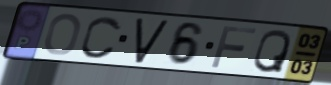6: (163, 21, 209, 67)
C: (78, 14, 125, 61)
F: (209, 24, 260, 70)
O: (42, 12, 84, 57)
Q: (251, 28, 294, 75)
V: (133, 17, 171, 65)
